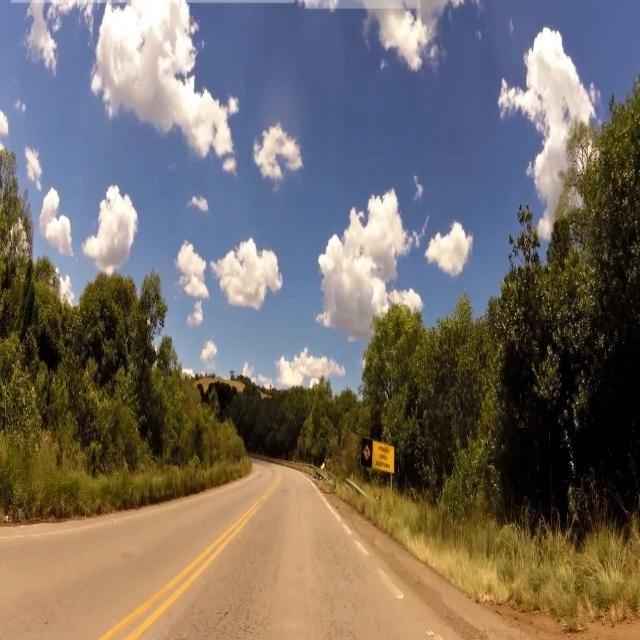A-1a: (364, 440, 372, 462)
